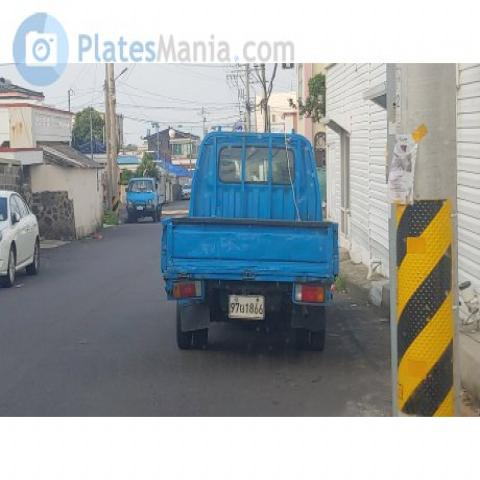LP: (224, 286, 273, 327)
